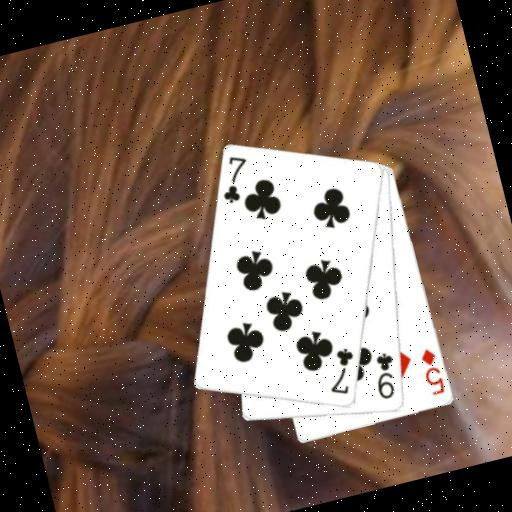5D: (416, 344, 448, 398)
7C: (211, 150, 258, 208), (318, 343, 365, 400)
9C: (366, 348, 404, 403)
